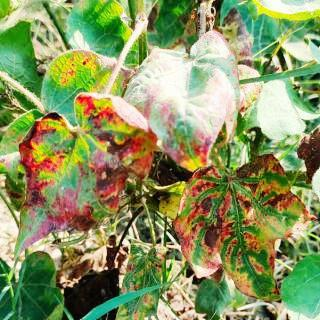blight: (6, 88, 158, 265), (97, 24, 260, 173), (170, 159, 308, 307)
